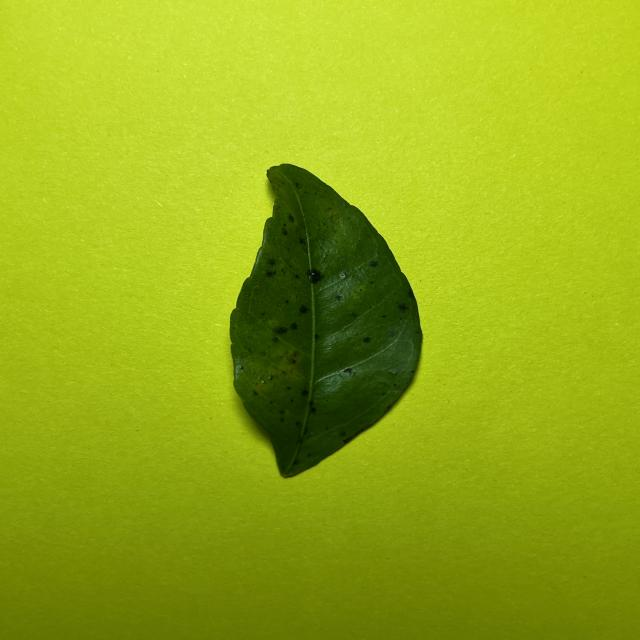sooty_mold: (230, 164, 422, 477)
